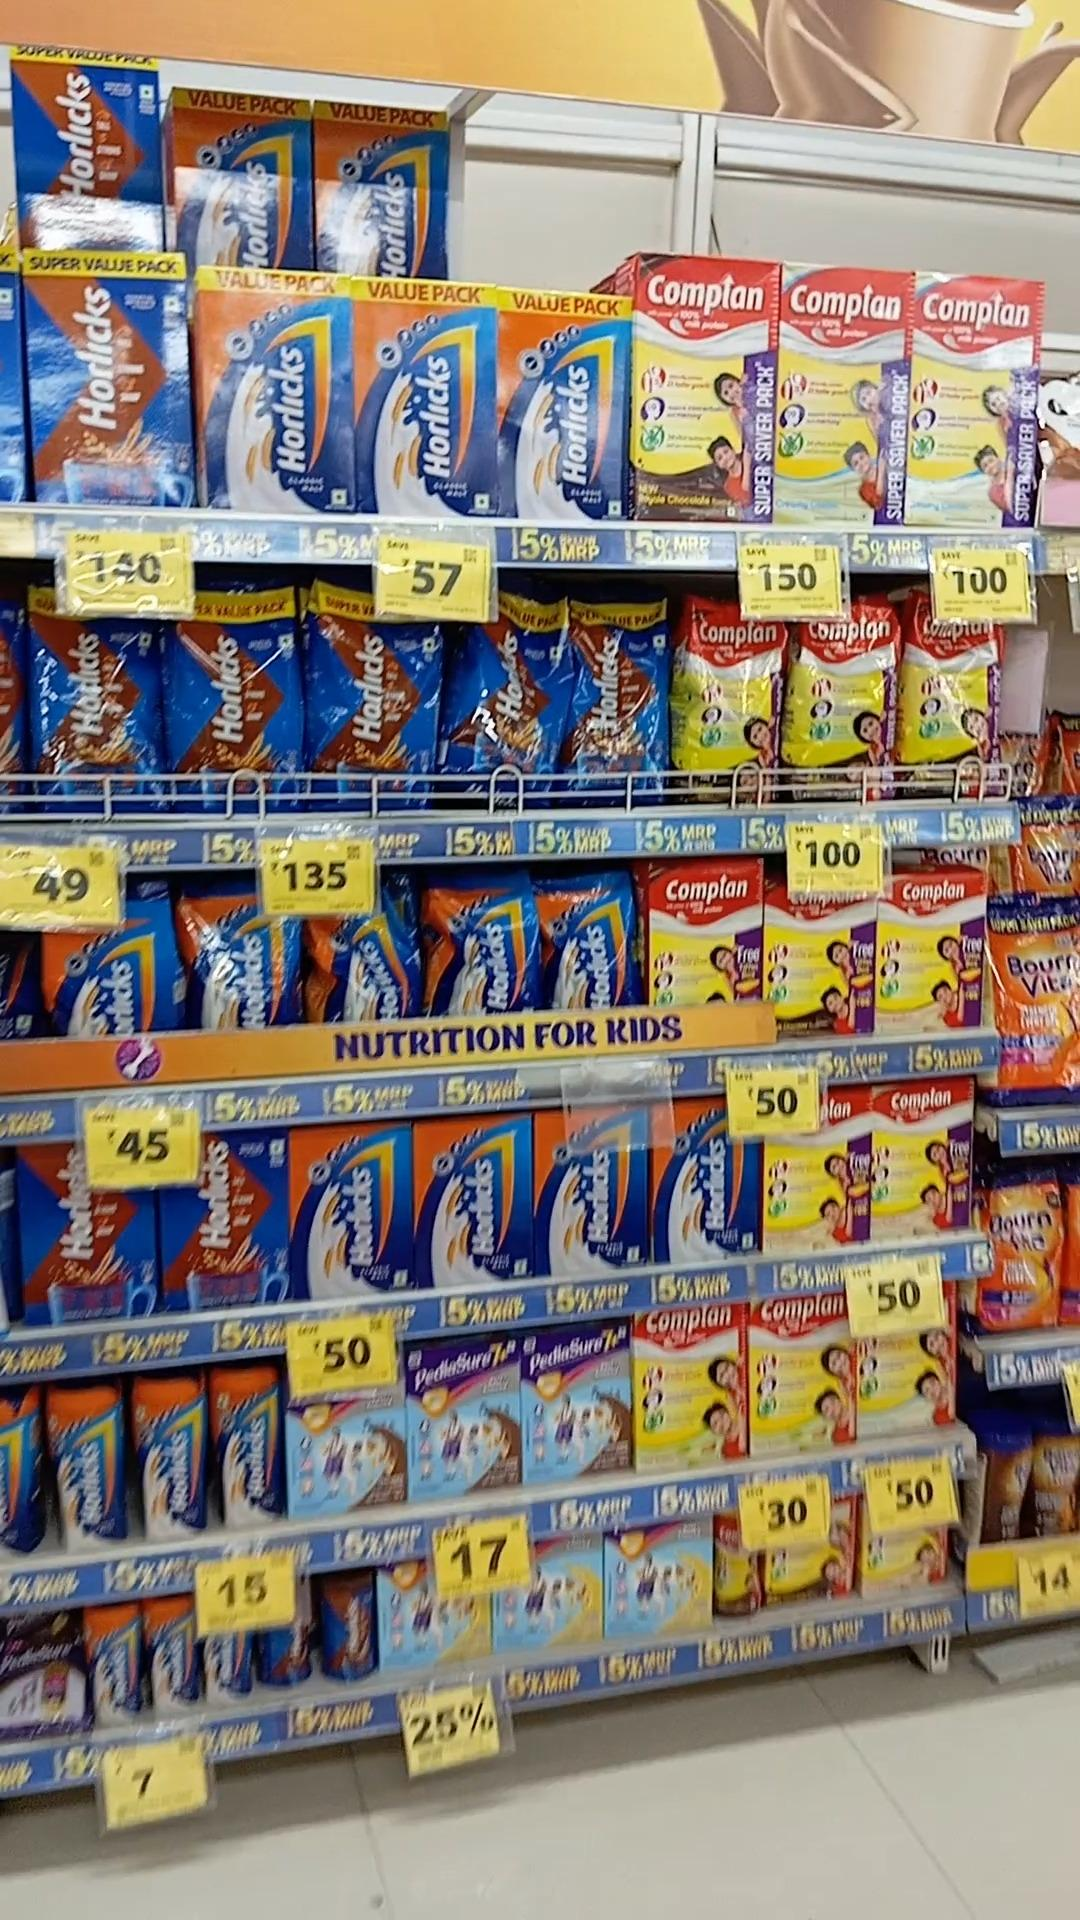BOURN_VITA_1_KG_POUCH: (988, 899, 1080, 1098)
BOURN_VITA_500_G_POUCH: (980, 1172, 1063, 1335)
BOURN_VITA_FIVE_STAR_MAGIC_500_G_JAR: (1033, 1414, 1080, 1532)
COMPLAN_CHOCOLATE_1_KG_PACK: (632, 258, 775, 529)
COMPLAN_CHOCOLATE_500_GMS_PACK: (765, 882, 874, 1039)
COMPLAN_KESAR_BADAM_500_GMS_PACK: (878, 870, 982, 1030), (870, 1080, 972, 1241), (766, 1105, 866, 1254)
COMPLAN_PISTA_BADAM_500_GMS_PACK: (752, 1298, 855, 1457), (638, 1308, 741, 1466)
COMPLAN_RC_POUCH_700_GMS_12: (786, 599, 897, 800), (675, 599, 783, 804), (898, 612, 1004, 799)
HORLICK_CHOCOLATE_200_G_JAR: (319, 1575, 373, 1681)
HORLICK_CHOCOLATE_750_G_POUCH: (170, 588, 298, 810), (306, 587, 433, 806), (41, 596, 167, 808), (442, 615, 558, 803), (562, 599, 666, 800)
HORLICK_CLASSIC_MALT_500_G_PACK: (289, 1129, 407, 1299), (418, 1116, 525, 1282), (537, 1106, 641, 1273), (653, 1098, 754, 1255)
